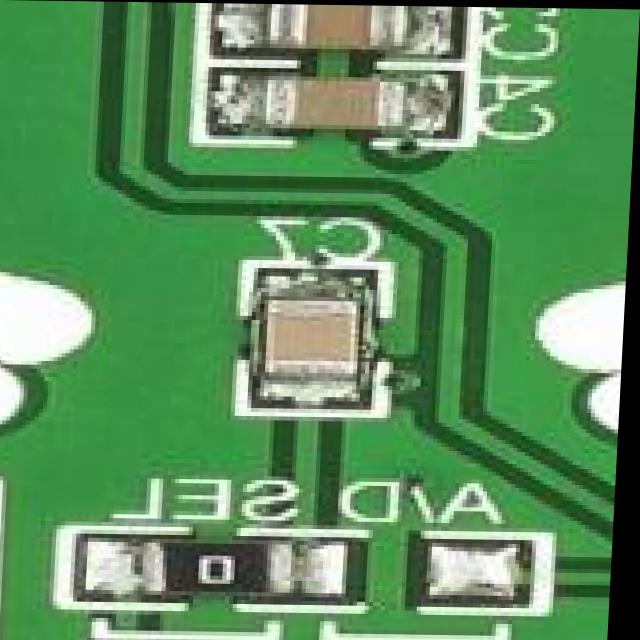capacitor: (246, 279, 377, 403), (215, 75, 437, 129), (226, 3, 432, 61)
resistor: (87, 533, 322, 612)
